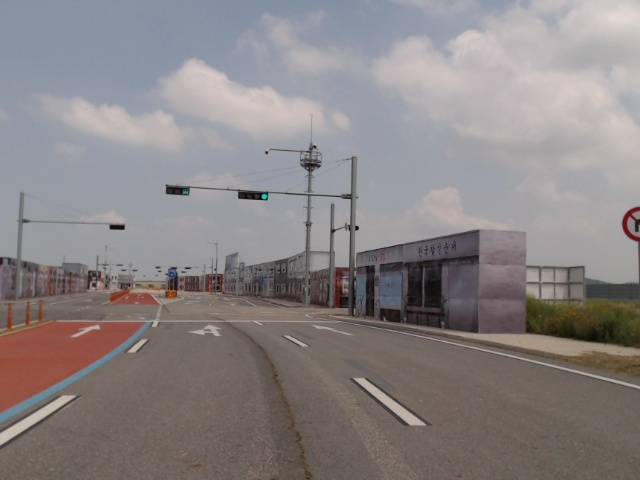straight_green_4: (237, 190, 270, 202)
